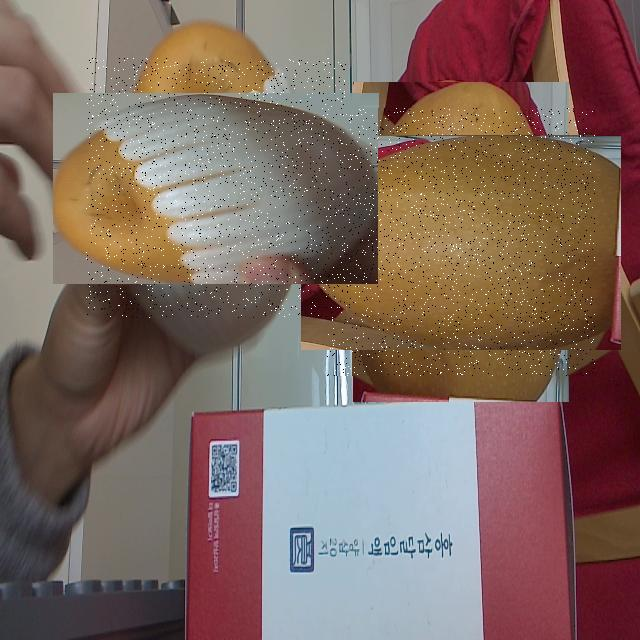pear: (328, 108, 596, 376), (86, 58, 346, 318)
